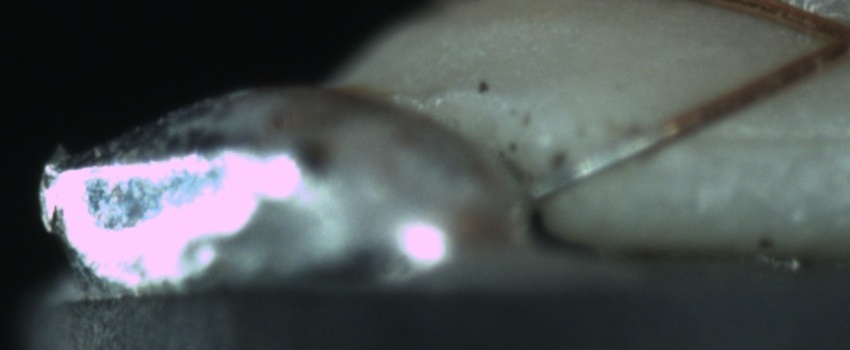CL: (798, 4, 850, 69)
DL: (685, 105, 849, 169)
TS: (530, 124, 670, 205)
